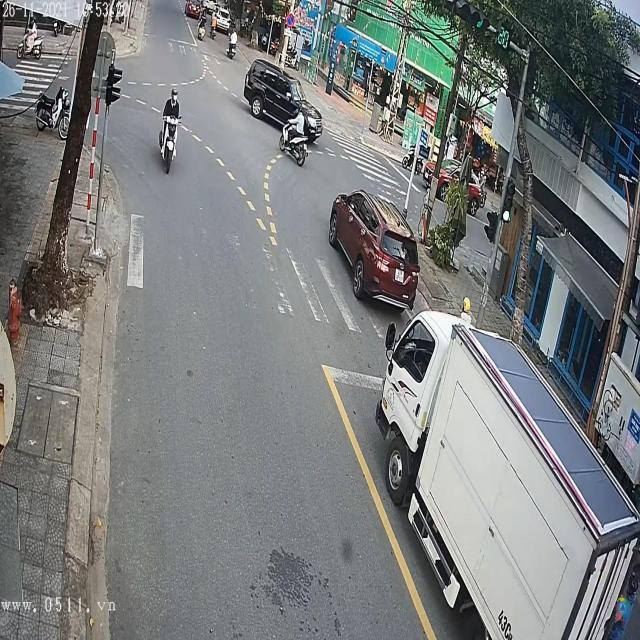car: (328, 190, 421, 311), (244, 58, 325, 143)
motorcycle: (158, 110, 180, 168), (278, 126, 308, 168), (186, 1, 204, 19)
truck: (373, 302, 640, 640)
